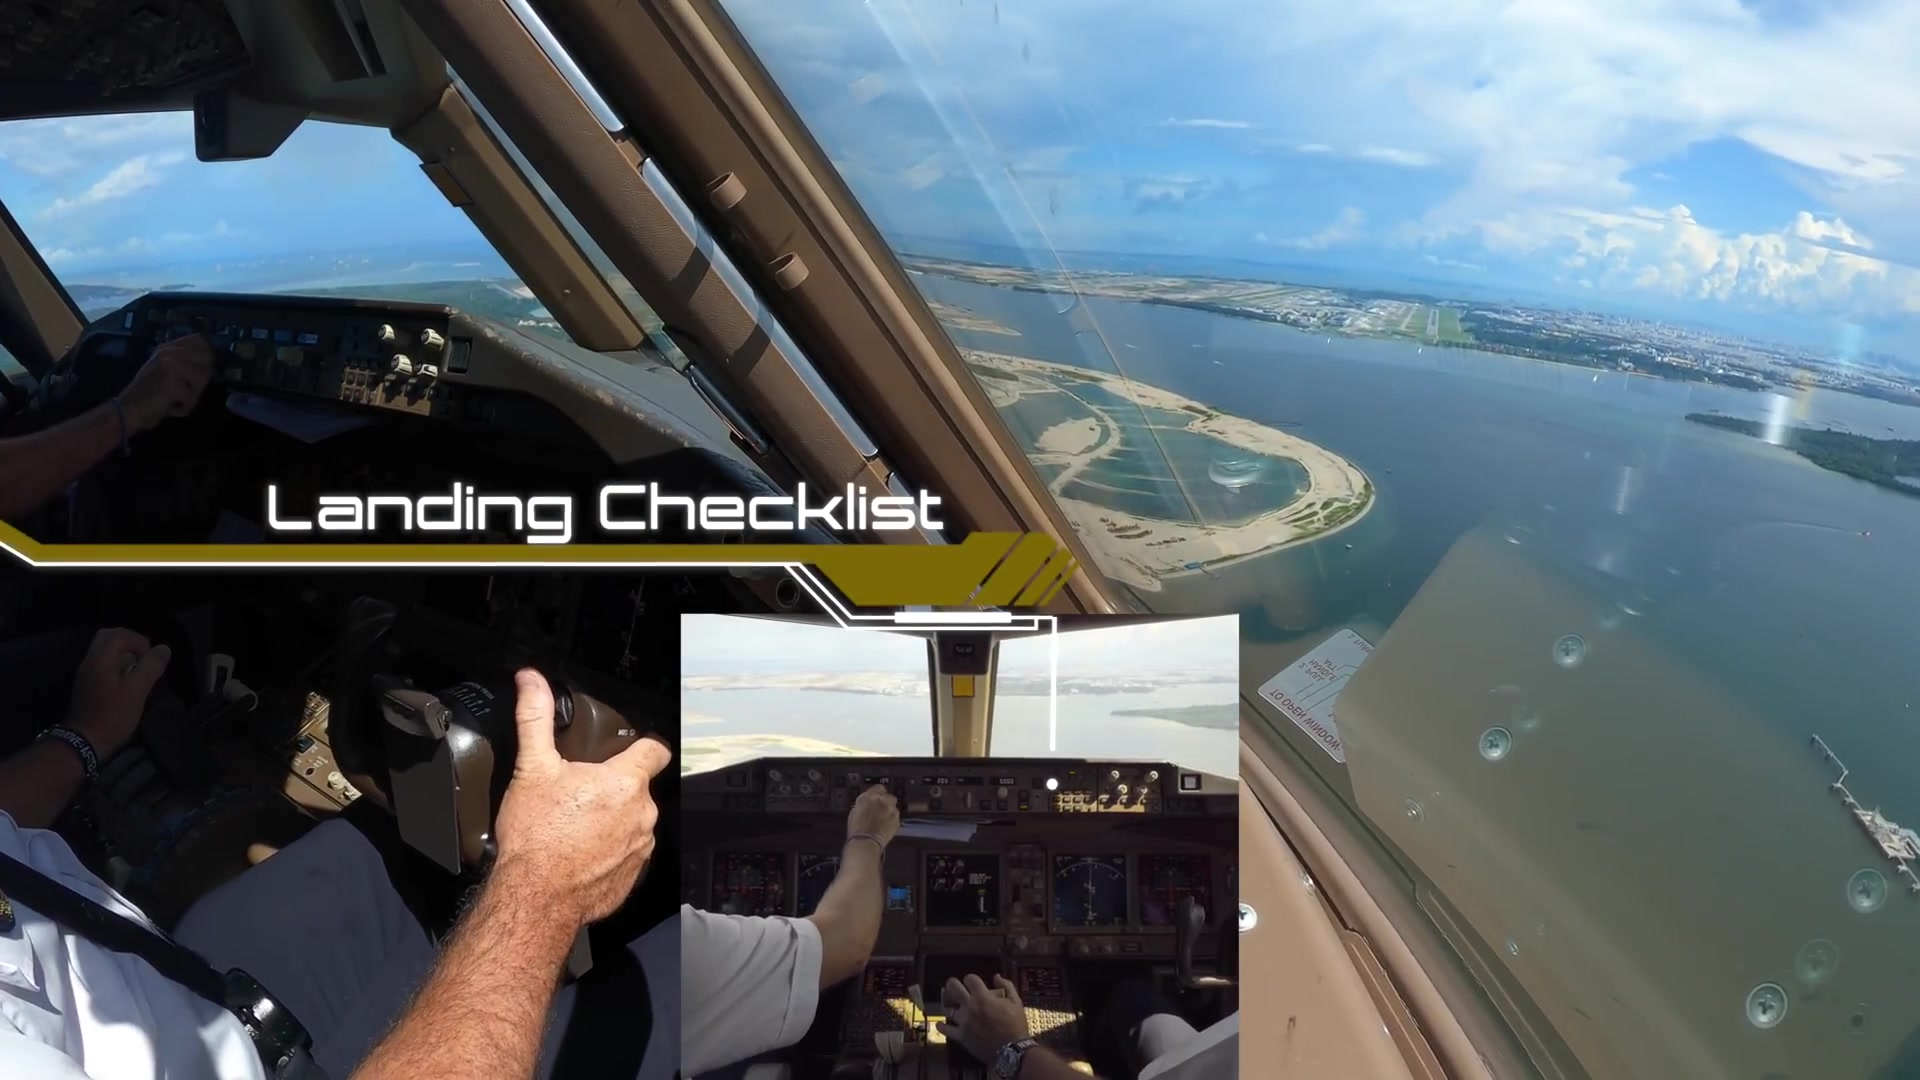runway: (1423, 309, 1441, 338)
